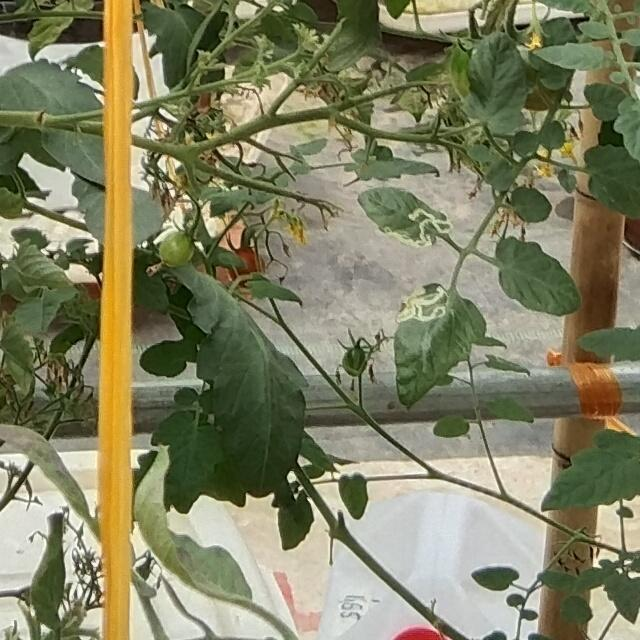Healthy: (168, 262, 311, 497), (538, 425, 640, 513), (495, 235, 582, 318), (530, 40, 606, 72)
Leaf_Miner: (392, 278, 488, 412), (354, 182, 456, 253)
